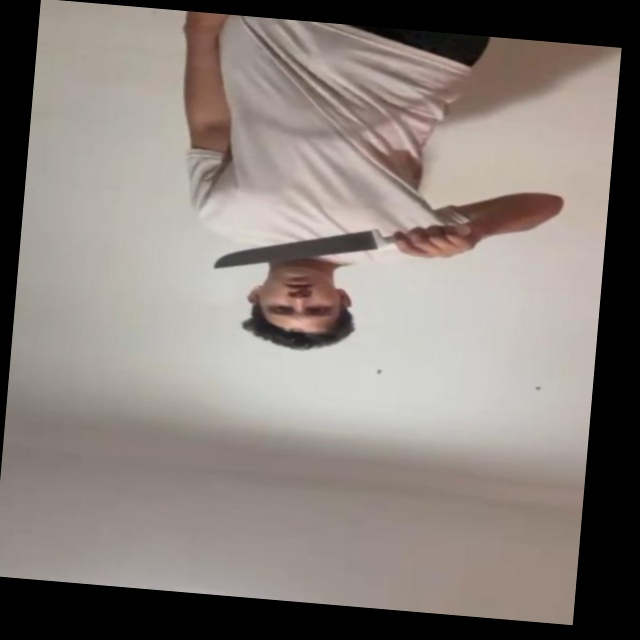Sharp-Object: (213, 221, 376, 283)
